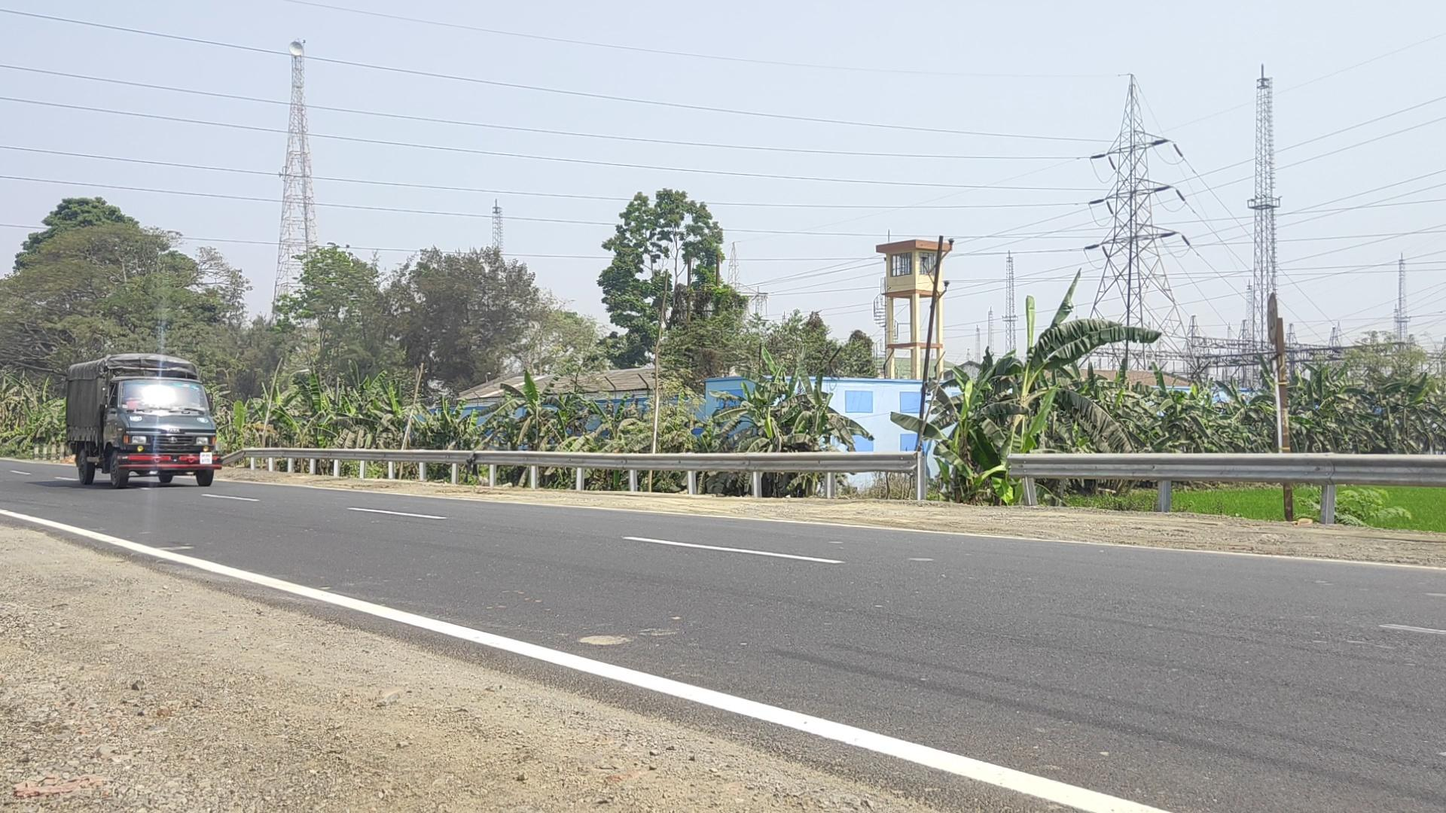truck: (65, 352, 222, 490)
